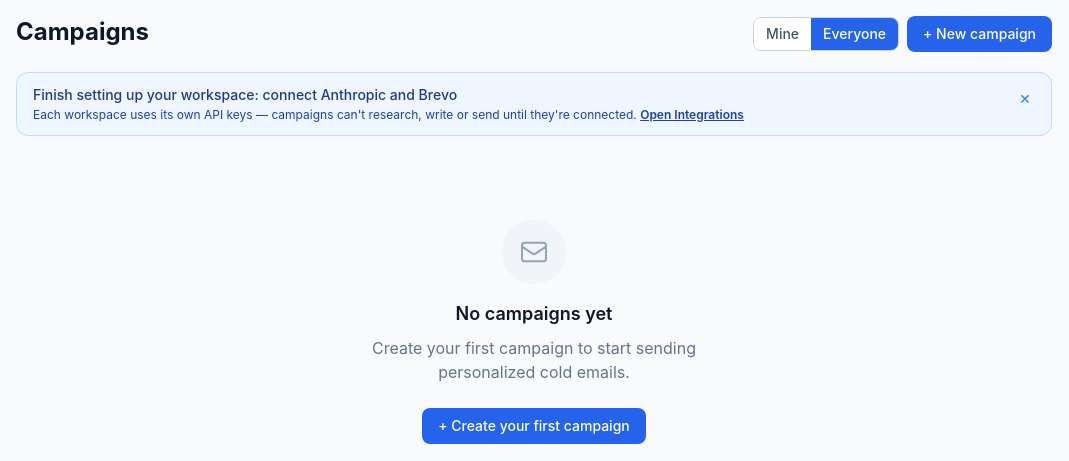
Scenario: Workspace setup nudge › nudges managers to connect missing core providers and can be dismissed
The width and height of the screenshot is (1069, 461).
Check: the message with test id "workspace-setup-nudge" shows "Finish setting up your workspace: connect Anthropic and Brevo", box [16, 72, 1052, 136]
Click the button with test id "setup-nudge-dismiss". click: (1025,98)
box: [1015, 85, 1035, 111]
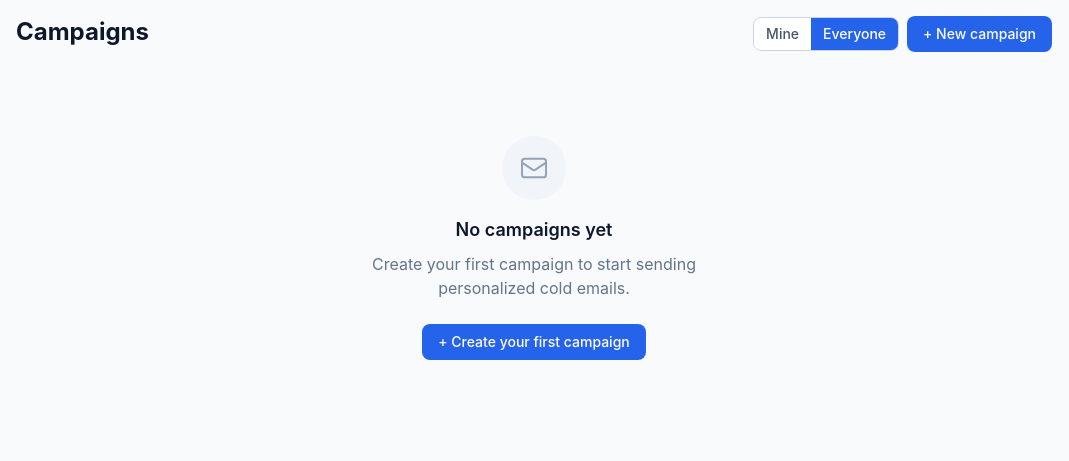
Check: the message with test id "workspace-setup-nudge" is gone
